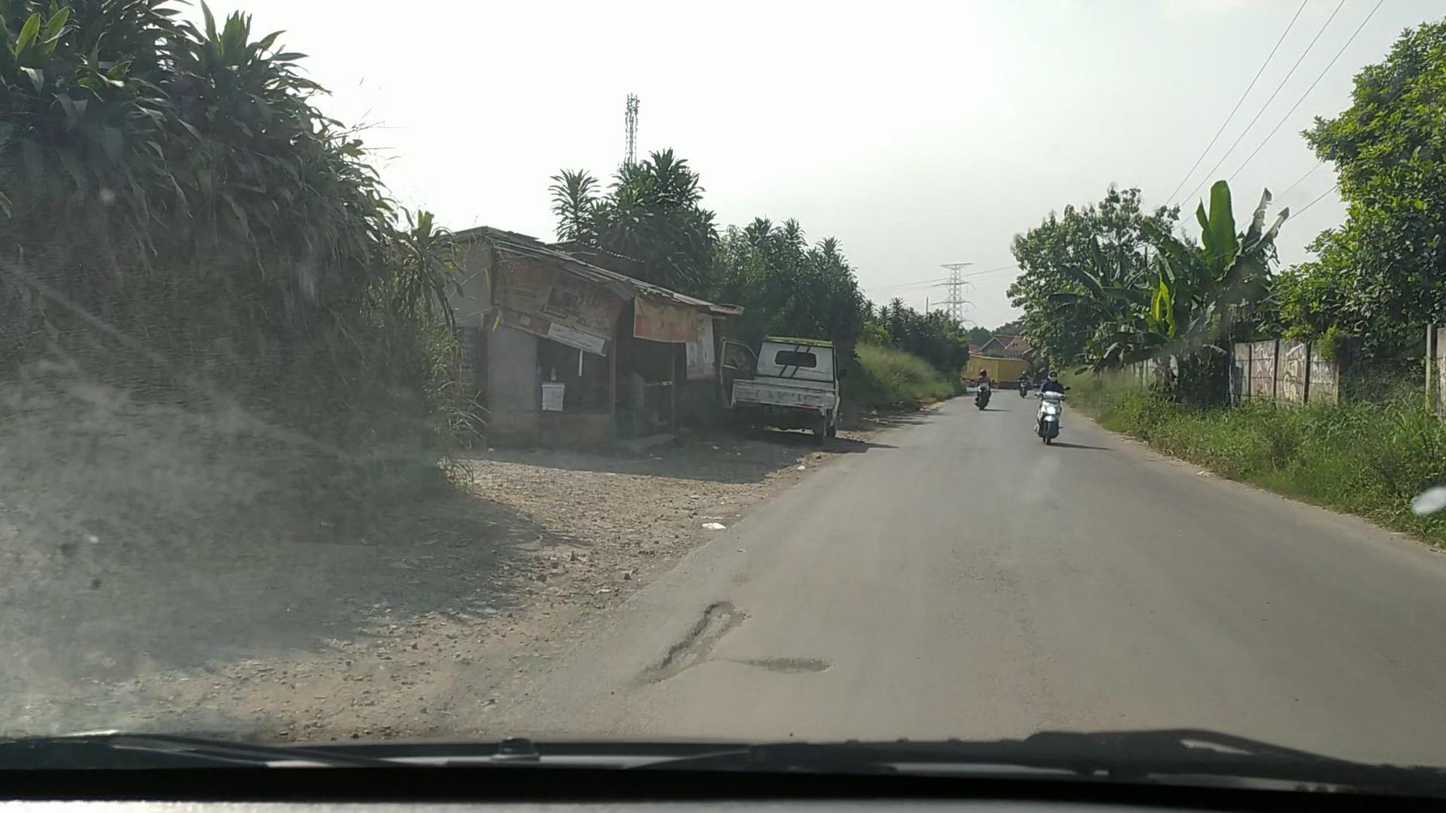pothole: (633, 603, 826, 688)
